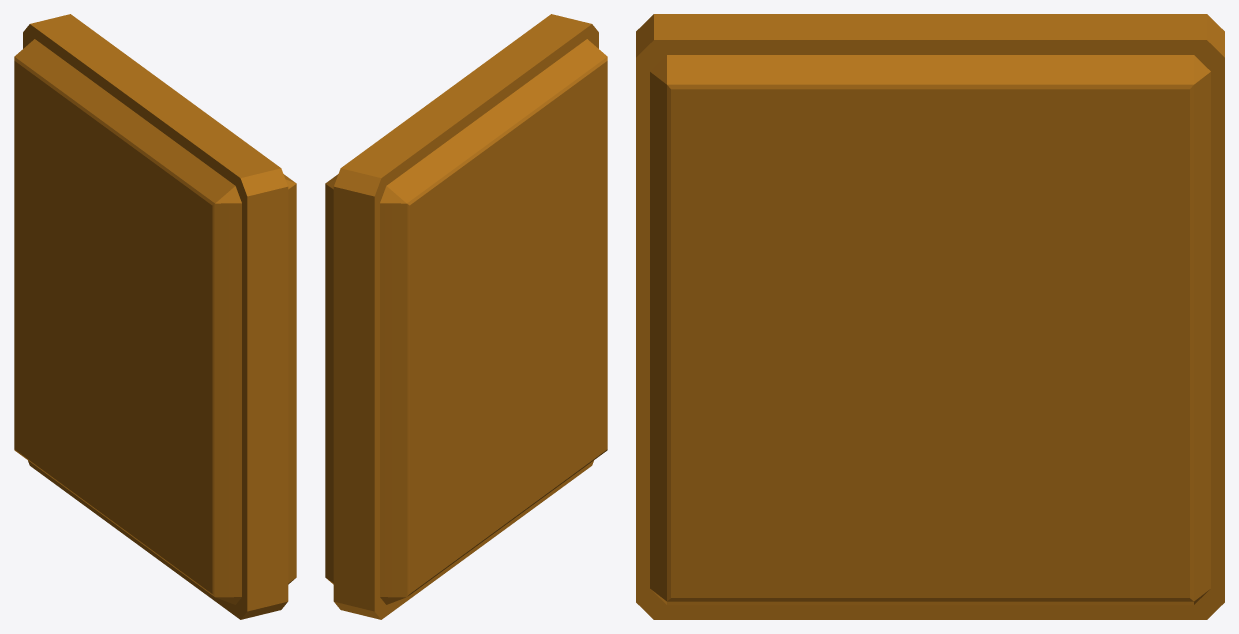
Rendered from Spinner_Target.fbx.
The picture shows the model from 3 angles, left to right: view 1: azimuth 30°, elevation 25°; view 2: azimuth 150°, elevation 25°; view 3: azimuth 270°, elevation 25°; orthographic projection. The views are drawn at different scales.
Parts seen in each view (by area): view 1: Spinner_Target; view 2: Spinner_Target; view 3: Spinner_Target.
Boxes of the visible parts, bbox=[...] form: Spinner_Target: bbox=[14, 14, 296, 619]; Spinner_Target: bbox=[325, 14, 607, 619]; Spinner_Target: bbox=[636, 14, 1224, 619].
Bounding box in the file's own units: 0.6798 × 3.41 × 3.14.
